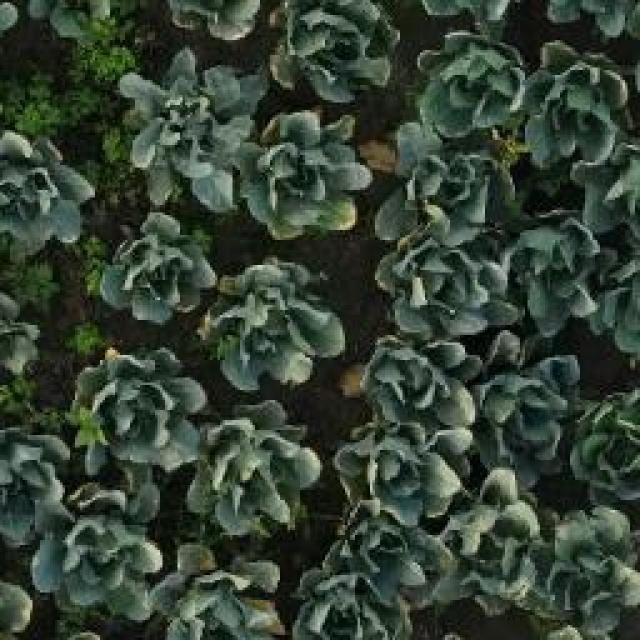cabbage: (122, 54, 260, 208), (206, 260, 346, 390), (521, 35, 640, 176), (32, 484, 160, 615), (192, 411, 314, 536), (240, 114, 368, 233), (440, 470, 551, 607), (381, 138, 523, 244), (474, 330, 577, 471), (335, 422, 471, 528), (495, 203, 603, 336), (380, 228, 506, 336), (533, 510, 640, 633), (322, 503, 451, 604), (78, 352, 188, 470), (412, 27, 530, 135), (366, 328, 486, 434), (156, 543, 287, 640), (273, 0, 397, 98), (0, 125, 94, 251), (97, 218, 214, 312), (572, 382, 640, 500), (292, 572, 410, 640)
